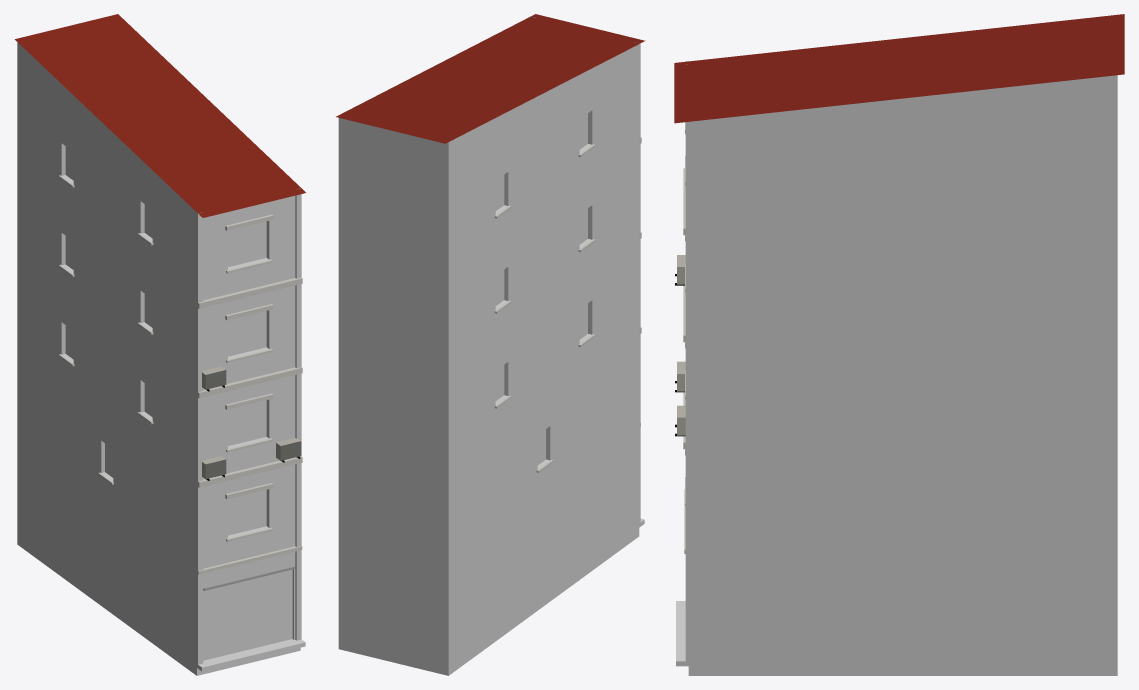
3 views of the same model, side by side, from view 1: azimuth 30°, elevation 25°; view 2: azimuth 150°, elevation 25°; view 3: azimuth 270°, elevation 25° (orthographic). The views are drawn at different scales.
Parts seen in each view (by area): view 1: TH_D12_L_12_LOD0; view 2: TH_D12_L_12_LOD0; view 3: TH_D12_L_12_LOD0.
Part boxes in pixels (bbox=[...]): TH_D12_L_12_LOD0: bbox=[15, 14, 305, 675]; TH_D12_L_12_LOD0: bbox=[336, 14, 645, 675]; TH_D12_L_12_LOD0: bbox=[674, 14, 1124, 675].
Size of what is drawn, in the model's own units: 4.08 by 18.56 by 12.6.
